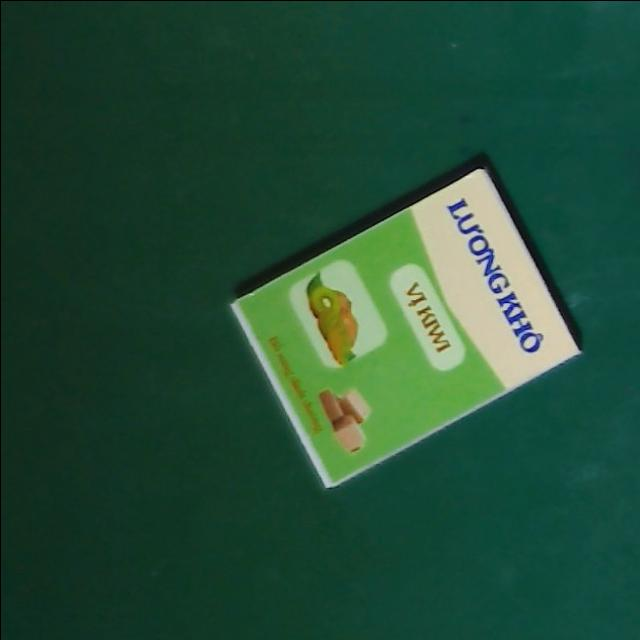kiwi: (226, 164, 585, 493)
